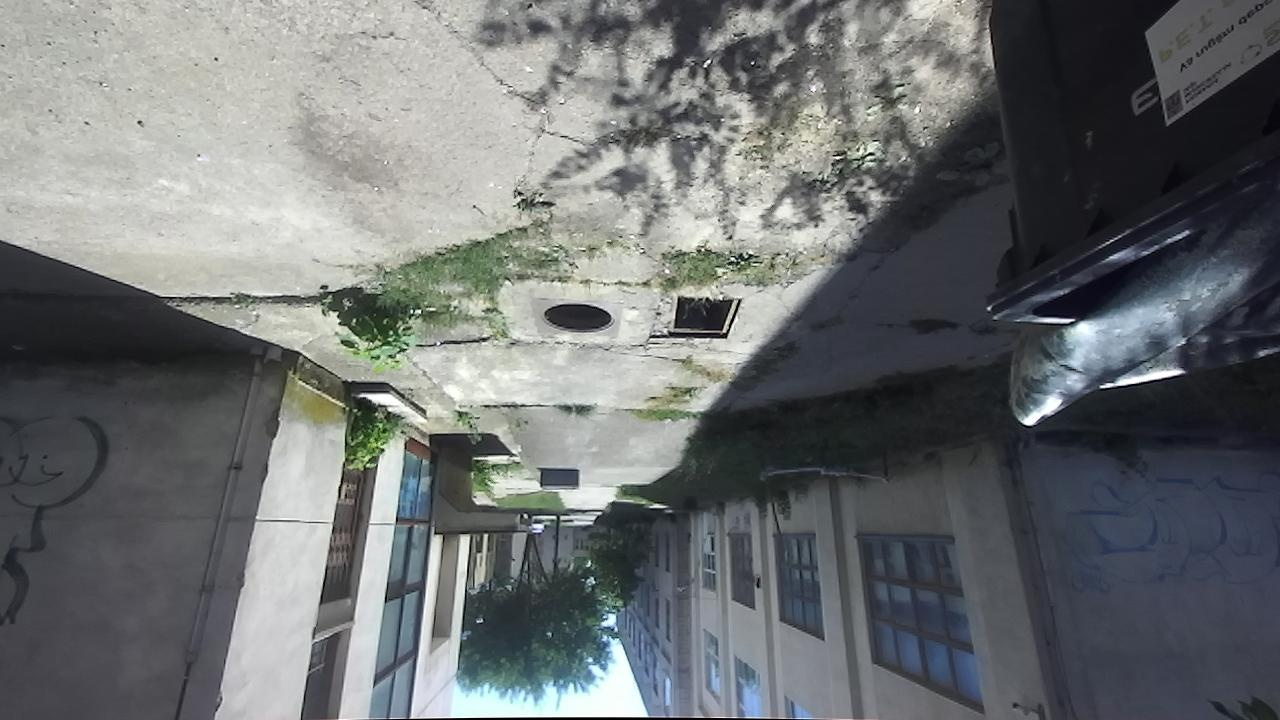drain: (667, 293, 744, 341), (539, 302, 620, 335)
